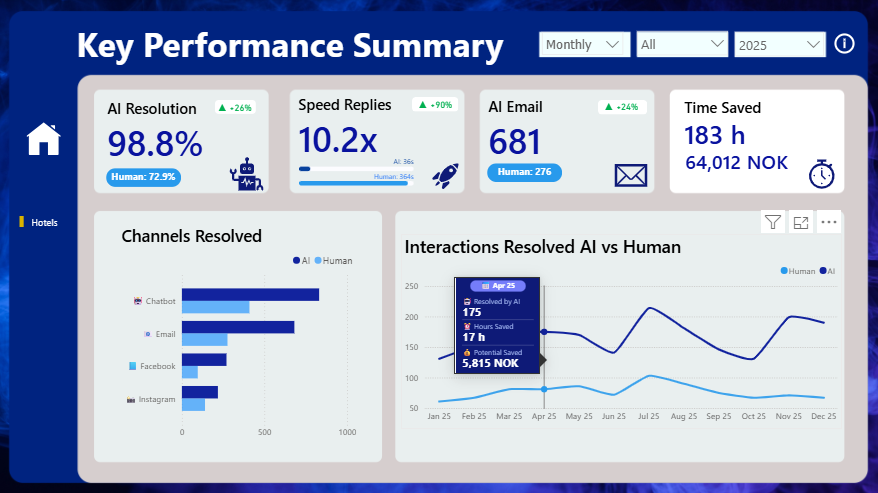

The page's visual inventory and layout, read from the dashboard file:
{"tool":"powerbi","page":{"name":"Summary","canvas":[1280,720],"ordinal":1},"visuals":[{"type":"group","id":"g1","title":"Group 5","box":[681.1,110.9,272,174.7],"z":0,"group":"g7"},{"type":"group","id":"g2","title":"Group 9","box":[586.1,338.4,635,280.8],"z":0},{"type":"group","id":"g3","title":"Group 13","box":[161.3,305.3,381.6,358.6],"z":1000},{"type":"textbox","box":[113.8,25.9,650.9,108],"z":2000},{"type":"group","id":"g4","title":"Group 8","box":[133.1,113.8,245.8,175.6],"z":2000,"group":"g5"},{"type":"shape","box":[21.5,313.9,36.2,15.8],"z":2000,"group":"g9"},{"type":"group","id":"g5","title":"Group 11","box":[133.1,113.8,280.5,175.6],"z":3000},{"type":"actionButton","box":[31.9,308.9,82.1,30],"z":3000,"group":"g9"},{"type":"group","id":"g6","title":"Group 12","box":[408.5,107.8,280.5,195.6],"z":4000},{"type":"image","box":[868.1,226.3,97.9,56.2],"z":4000,"group":"g7"},{"type":"group","id":"g7","title":"Group 14","box":[681.1,110.9,284.9,174.7],"z":5000},{"type":"lineChart","title":"Interactions Resolved AI vs Human","fields":{"Category":["Date.Monthly"],"Y":["data_KPI_additional.count_resolved_h","data_KPI_additional.count_resolved_ai"]},"box":[586.1,338.4,635,280.8],"z":5000,"group":"g2"},{"type":"group","id":"g8","title":"Group 6","box":[408.5,107.8,262.6,139.7],"z":6000,"group":"g6"},{"type":"group","id":"g9","title":"Group 2","box":[21.5,308.9,92.2,30.7],"z":6000},{"type":"slicer","fields":{"Values":["Parameter.Parameter"]},"box":[779,37.4,136.8,67.7],"z":7000},{"type":"group","id":"g10","title":"Group 6","box":[134.7,113.8,244.2,153.3],"z":7000,"group":"g4"},{"type":"image","box":[438.5,217.8,186.7,85.6],"z":7000,"group":"g6"},{"type":"clusteredBarChart","title":"Channels Resolved","fields":{"Category":["data_interaction_match.channel_icon"],"Series":["data_interaction_match.handled_by"],"Y":["data_KPI_additional.count_resolved_AI_HUMAN"]},"box":[178.1,324.6,347.8,318.8],"z":7000,"group":"g3"},{"type":"slicer","title":"MONTH","fields":{"Values":["Date.MonthSort"]},"box":[915.8,36,151.2,56.2],"z":8000},{"type":"image","box":[610.1,233.6,78.9,44.4],"z":8000,"group":"g6"},{"type":"slicer","title":"YEAR","fields":{"Values":["Date.Yearly"]},"box":[1057,37.4,148.3,46.1],"z":9000},{"type":"image","box":[315.8,223.4,97.8,54.4],"z":9000,"group":"g5"},{"type":"group","id":"g11","title":"Group 7","box":[133.1,224,162.7,65.5],"z":9000,"group":"g4"},{"type":"group","id":"g12","title":"Group 3","box":[682.7,110.9,270.4,136.7],"z":10000,"group":"g1"},{"type":"group","id":"g13","title":"Group 4","box":[965.5,112.7,213.6,118.2],"z":10000},{"type":"cardVisual","title":"AI Resolution Rate","fields":{"Data":["data_KPI_additional.speed_ratio_text"]},"box":[408.5,107.8,238.9,139.7],"z":11000,"group":"g8"},{"type":"cardVisual","title":"AI Resolution Rate","fields":{"Data":["data_KPI_additional.count_email_ai_resolved"]},"box":[682.7,110.9,270.4,136.7],"z":11000,"group":"g19"},{"type":"cardVisual","title":"AI Resolution Rate","fields":{"Data":["data_KPI_additional.total_hours_saved_AI_text"]},"box":[965.5,112.7,213.3,118.3],"z":11000,"group":"g13"},{"type":"cardVisual","title":"AI Resolution Rate","fields":{"Data":["data_KPI_additional.prct_resolved_true_ai"]},"box":[134.7,113.8,230.8,153.3],"z":11000,"group":"g20"},{"type":"group","id":"g14","title":"Group 4","box":[966.4,159.1,253.6,117.3],"z":11000},{"type":"cardVisual","title":"AI Resolution Rate","fields":{"Data":["data_KPI_additional.cost_saved_NOK_text"]},"box":[966.4,159.1,253.3,116.7],"z":11000,"group":"g14"},{"type":"shape","box":[602.3,141.1,66.7,21.1],"z":11501,"group":"g16"},{"type":"shape","box":[869.3,145,70.8,20.8],"z":11501,"group":"g17"},{"type":"shape","box":[318,145.7,58.9,20],"z":11501,"group":"g18"},{"type":"cardVisual","fields":{"Data":["data_KPI_additional.count_email_h_resolved_text"]},"box":[681.1,213.9,158.3,71.7],"z":12000,"group":"g15"},{"type":"cardVisual","fields":{"Data":["data_KPI_additional.prct_resolved_true_h_text"]},"box":[133.1,224,163.2,65.2],"z":12000,"group":"g11"},{"type":"image","box":[1152,226.1,79.2,51.8],"z":12000},{"type":"card","fields":{"Values":["data_KPI_additional.prct_speed_ai_efficient_text"]},"box":[598.9,139.9,72.2,26.7],"z":12001,"group":"g16"},{"type":"card","fields":{"Values":["data_KPI_additional.resolution_email_AI_vs_Human"]},"box":[862.1,141.4,80.8,30],"z":12001,"group":"g17"},{"type":"card","fields":{"Values":["data_KPI_additional.resolution_AI_vs_Human"]},"box":[314.1,144,64.8,25.9],"z":12001,"group":"g18"},{"type":"group","id":"g15","title":"Group 7","box":[681.1,213.9,158.3,71.7],"z":12001,"group":"g1"},{"type":"group","id":"g16","title":"Group 1","box":[598.9,139.9,72.2,26.7],"z":12002,"group":"g8"},{"type":"group","id":"g17","title":"Group 1","box":[862.1,141.4,80.8,30],"z":12002,"group":"g19"},{"type":"group","id":"g18","title":"Group 1","box":[314.1,144,64.8,25.9],"z":12002,"group":"g20"},{"type":"group","id":"g19","title":"Group 4","box":[682.7,110.9,270.4,136.7],"z":12007,"group":"g12"},{"type":"group","id":"g20","title":"Group 4","box":[134.7,113.8,244.2,153.3],"z":12007,"group":"g10"},{"type":"image","box":[46.1,172.1,50.7,58.4],"z":13000},{"type":"actionButton","box":[1205.3,44.6,46.1,38.9],"z":14000}]}

Visuals, with their boxes in screenshot pixels (x1, y1, x2, y2), scaled from the page's 1280x720 canvas onto the 878x493 screenshot:
"Group 5" group: 467, 76, 654, 196
"Group 9" group: 402, 232, 838, 424
"Group 13" group: 111, 209, 372, 455
textbox: 78, 18, 525, 92
"Group 8" group: 91, 78, 260, 198
shape: 15, 215, 40, 226
"Group 11" group: 91, 78, 284, 198
actionButton: 22, 212, 78, 232
"Group 12" group: 280, 74, 473, 208
image: 595, 155, 663, 193
"Group 14" group: 467, 76, 663, 196
"Interactions Resolved AI vs Human" lineChart: 402, 232, 838, 424
"Group 6" group: 280, 74, 460, 169
"Group 2" group: 15, 212, 78, 233
slicer - Parameter.Parameter: 534, 26, 628, 72
"Group 6" group: 92, 78, 260, 183
image: 301, 149, 429, 208
"Channels Resolved" clusteredBarChart: 122, 222, 361, 441
"MONTH" slicer: 628, 25, 732, 63
image: 418, 160, 473, 190
"YEAR" slicer: 725, 26, 827, 57
image: 217, 153, 284, 190
"Group 7" group: 91, 153, 203, 198
"Group 3" group: 468, 76, 654, 170
"Group 4" group: 662, 77, 809, 158
"AI Resolution Rate" cardVisual: 280, 74, 444, 169
"AI Resolution Rate" cardVisual: 468, 76, 654, 170
"AI Resolution Rate" cardVisual: 662, 77, 809, 158
"AI Resolution Rate" cardVisual: 92, 78, 251, 183
"Group 4" group: 663, 109, 837, 189
"AI Resolution Rate" cardVisual: 663, 109, 837, 189
shape: 413, 97, 459, 111
shape: 596, 99, 645, 114
shape: 218, 100, 259, 113
cardVisual - data_KPI_additional.count_email_h_resolved_text: 467, 146, 576, 196
cardVisual - data_KPI_additional.prct_resolved_true_h_text: 91, 153, 203, 198
image: 790, 155, 845, 190
card - data_KPI_additional.prct_speed_ai_efficient_text: 411, 96, 460, 114
card - data_KPI_additional.resolution_email_AI_vs_Human: 591, 97, 647, 117
card - data_KPI_additional.resolution_AI_vs_Human: 215, 99, 260, 116
"Group 7" group: 467, 146, 576, 196
"Group 1" group: 411, 96, 460, 114
"Group 1" group: 591, 97, 647, 117
"Group 1" group: 215, 99, 260, 116
"Group 4" group: 468, 76, 654, 170
"Group 4" group: 92, 78, 260, 183
image: 32, 118, 66, 158
actionButton: 827, 31, 858, 57
